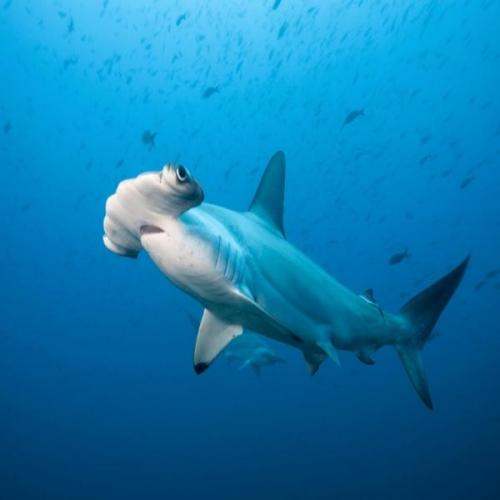shark-endangered: (99, 149, 470, 408)
